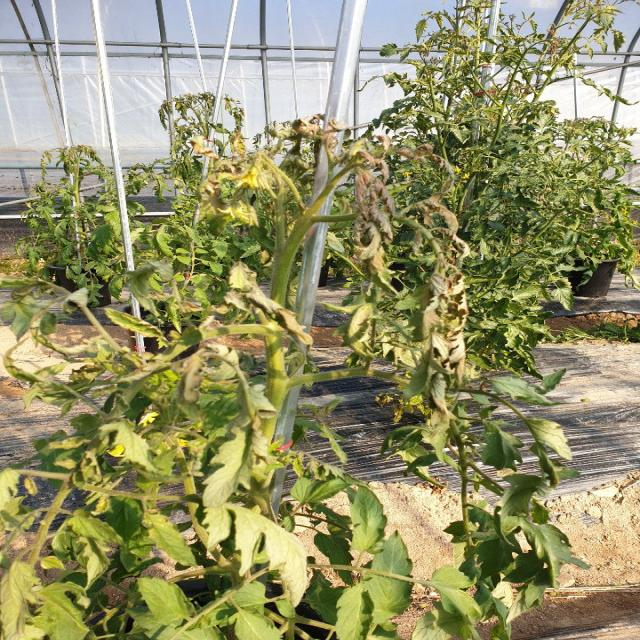Healthy Leaf: (365, 531, 416, 624), (526, 524, 591, 589), (35, 582, 92, 640), (433, 568, 485, 625), (292, 473, 382, 505), (145, 511, 196, 567), (350, 479, 388, 554), (137, 579, 196, 627), (482, 423, 526, 473), (68, 510, 125, 545), (337, 586, 373, 640), (490, 377, 555, 405), (230, 607, 285, 640), (107, 308, 165, 339), (539, 457, 579, 500)
